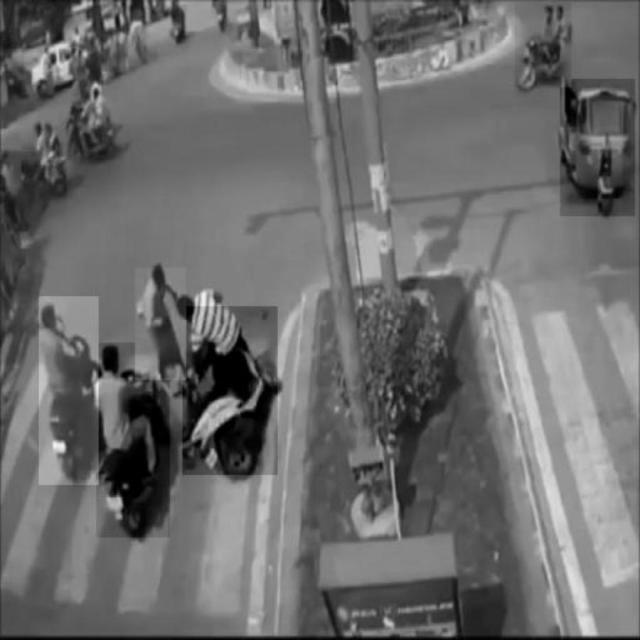person: (135, 267, 186, 379)
vehicle: (182, 306, 278, 474), (97, 343, 170, 538), (39, 296, 99, 484), (560, 80, 634, 217), (516, 3, 572, 87)
